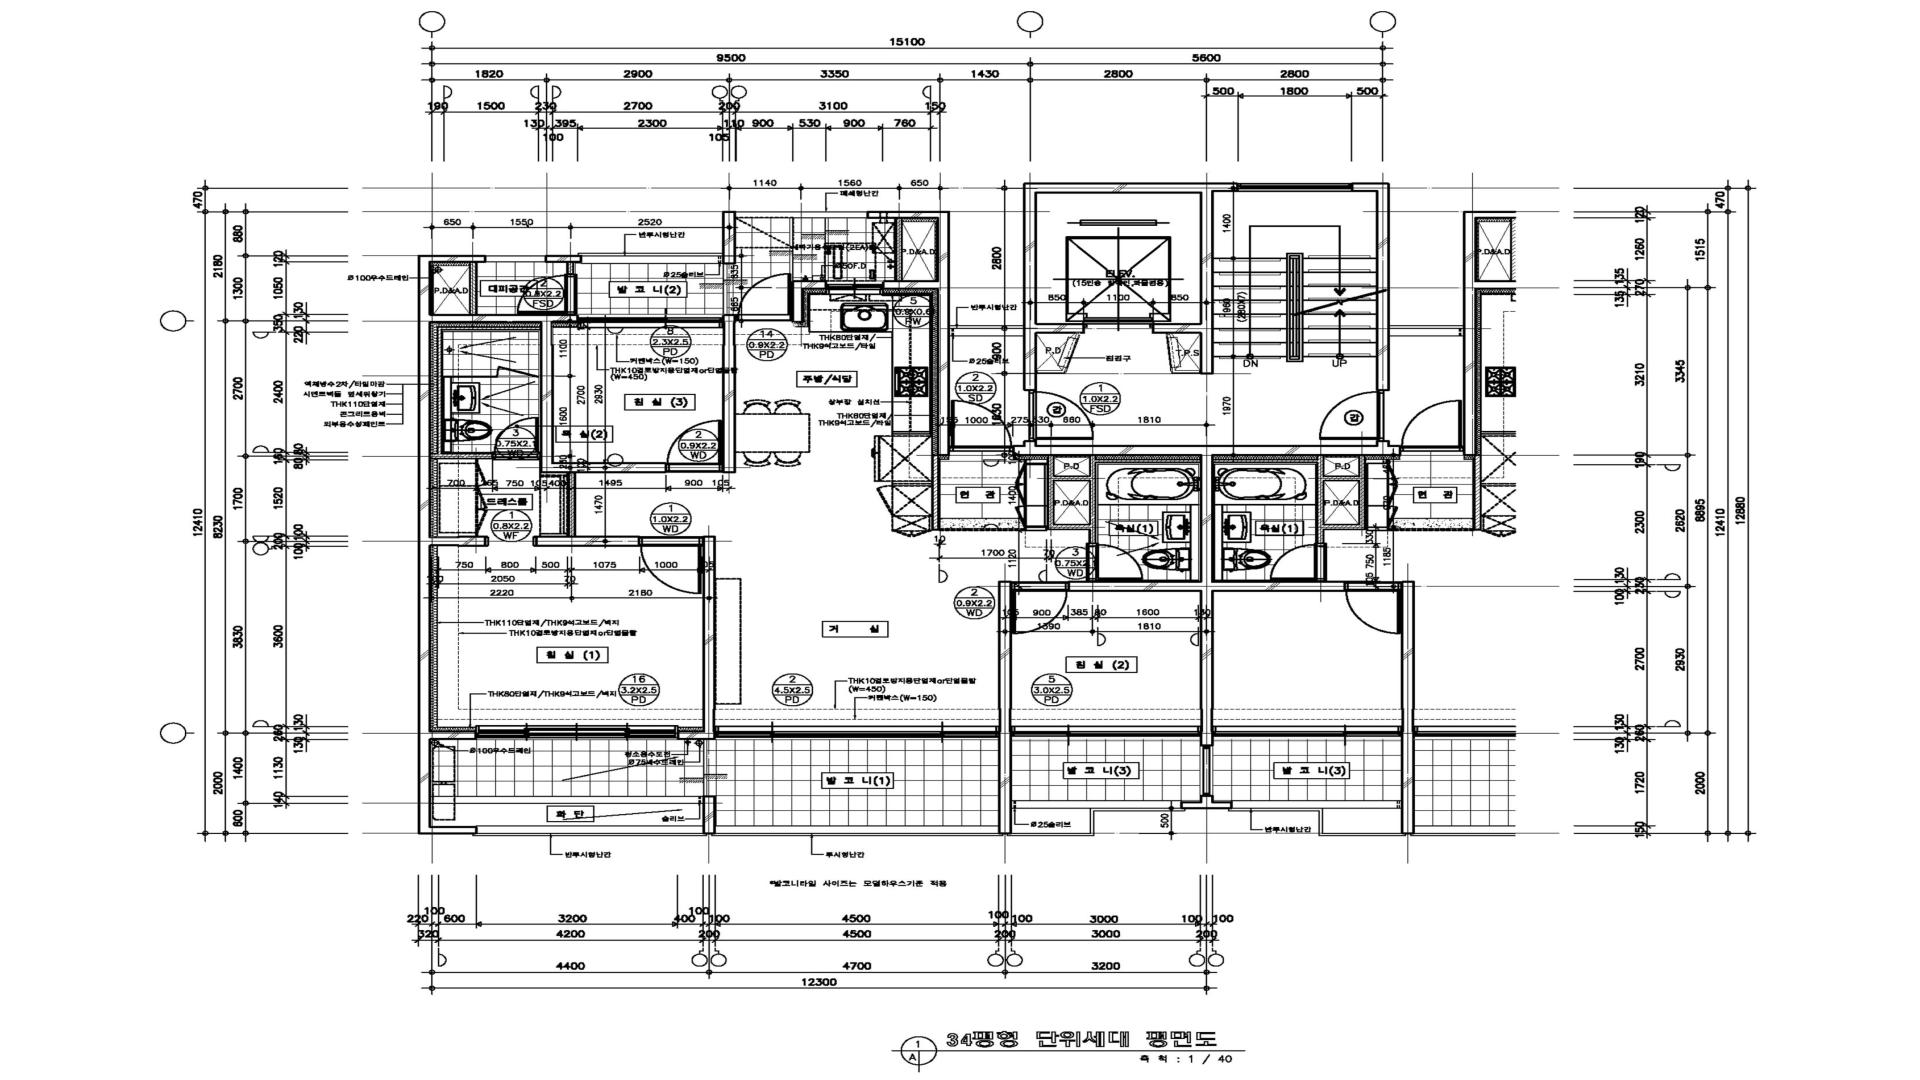background: (0, 0, 1920, 1080)
door: (640, 537, 703, 595), (949, 400, 1013, 452), (1319, 392, 1385, 440), (1029, 392, 1095, 440), (1013, 580, 1069, 634), (666, 419, 723, 473), (736, 273, 793, 322), (517, 274, 578, 315), (1085, 542, 1145, 582), (493, 417, 539, 460), (1058, 336, 1079, 368), (1166, 338, 1182, 368)
wall: (418, 255, 666, 835), (1013, 440, 1390, 810), (1023, 182, 1238, 390), (866, 211, 949, 455), (431, 327, 541, 459), (1047, 455, 1200, 543), (1352, 182, 1390, 390), (678, 535, 716, 740), (538, 473, 640, 547), (998, 580, 1013, 835), (431, 796, 703, 804), (723, 315, 736, 473), (1054, 481, 1089, 524), (793, 281, 827, 323), (721, 211, 736, 264), (931, 455, 940, 530), (703, 795, 717, 835), (469, 262, 477, 314), (545, 255, 583, 264), (1036, 368, 1068, 375), (1171, 368, 1199, 375), (566, 262, 575, 274), (1075, 334, 1081, 339), (1166, 334, 1171, 338)
window: (1006, 800, 1184, 836), (716, 725, 998, 740), (711, 825, 1004, 836), (476, 725, 678, 740), (1011, 727, 1200, 741), (472, 825, 707, 836), (578, 314, 723, 328), (578, 253, 723, 264), (1238, 182, 1352, 193), (736, 211, 866, 218), (827, 281, 884, 295), (949, 326, 1023, 336), (487, 256, 545, 262)
